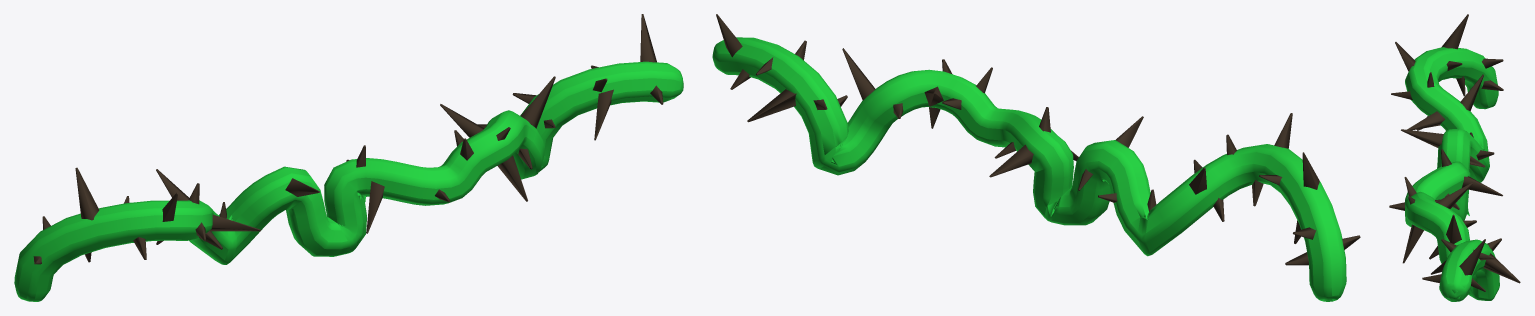
Rendered from vines.fbx.
3 renders of one model, left to right at view 1: azimuth 30°, elevation 25°; view 2: azimuth 150°, elevation 25°; view 3: azimuth 270°, elevation 25°, orthographic. The views are drawn at different scales.
Parts seen in each view (by area): view 1: Vine_Body; view 2: Vine_Body; view 3: Vine_Body.
Part boxes in pixels (bbox=[...]): Vine_Body: bbox=[14, 14, 683, 301]; Vine_Body: bbox=[712, 14, 1360, 301]; Vine_Body: bbox=[1389, 14, 1520, 301].
Bounding box in the file's own units: 528 × 112 × 114.
